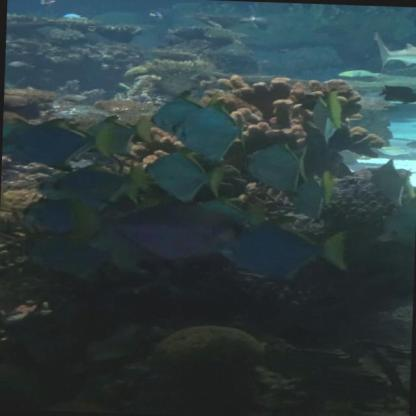fish: (210, 216, 356, 290), (113, 198, 249, 266), (147, 142, 236, 204), (21, 230, 108, 288), (30, 162, 135, 210), (174, 97, 250, 160), (12, 193, 106, 237), (22, 116, 102, 167), (247, 136, 320, 186), (285, 167, 344, 221), (353, 157, 415, 208), (81, 109, 144, 159), (368, 193, 416, 250), (146, 96, 210, 138), (2, 112, 51, 156), (300, 100, 348, 142), (236, 13, 276, 32), (26, 0, 70, 10), (146, 9, 168, 20)
shark: (372, 33, 415, 70)
